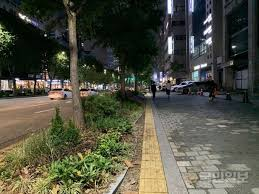guide_blocks: (139, 101, 166, 194)
